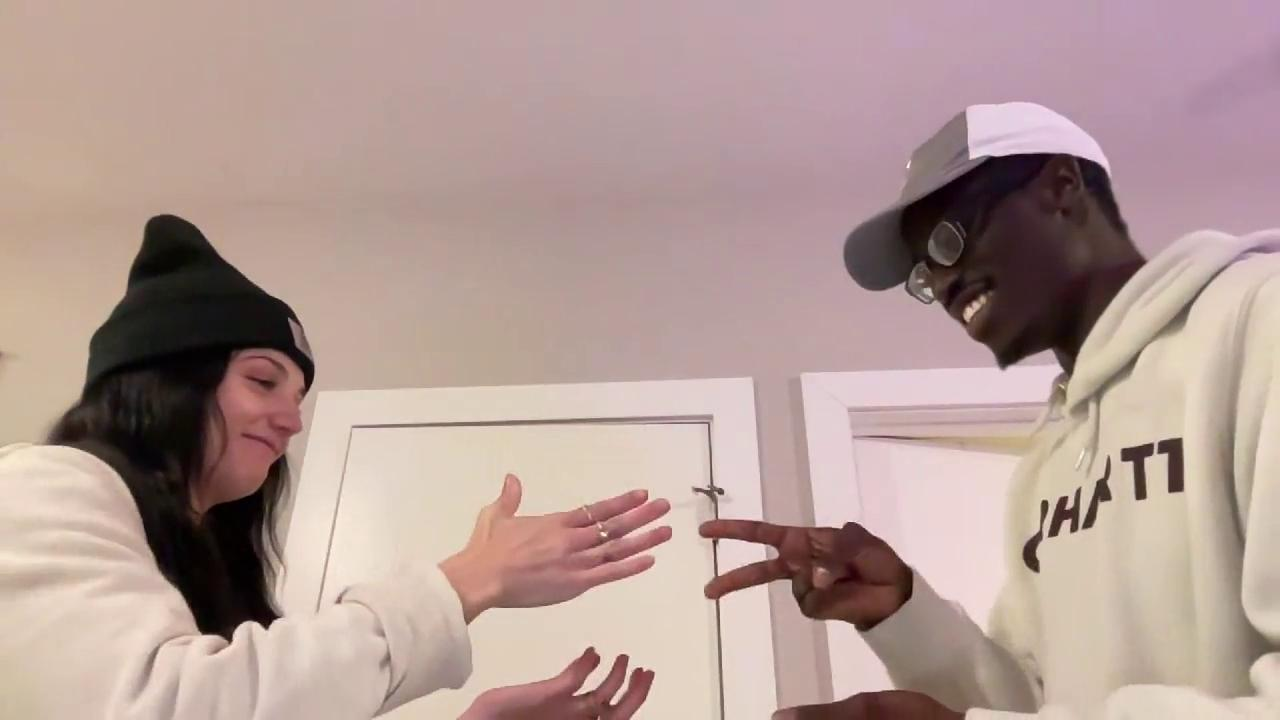Paper: (453, 472, 677, 617)
Scissors: (697, 518, 903, 634)
